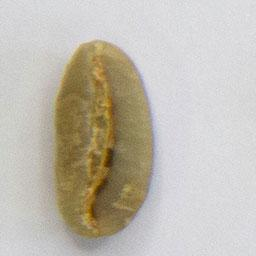longberry: (50, 37, 157, 240)
